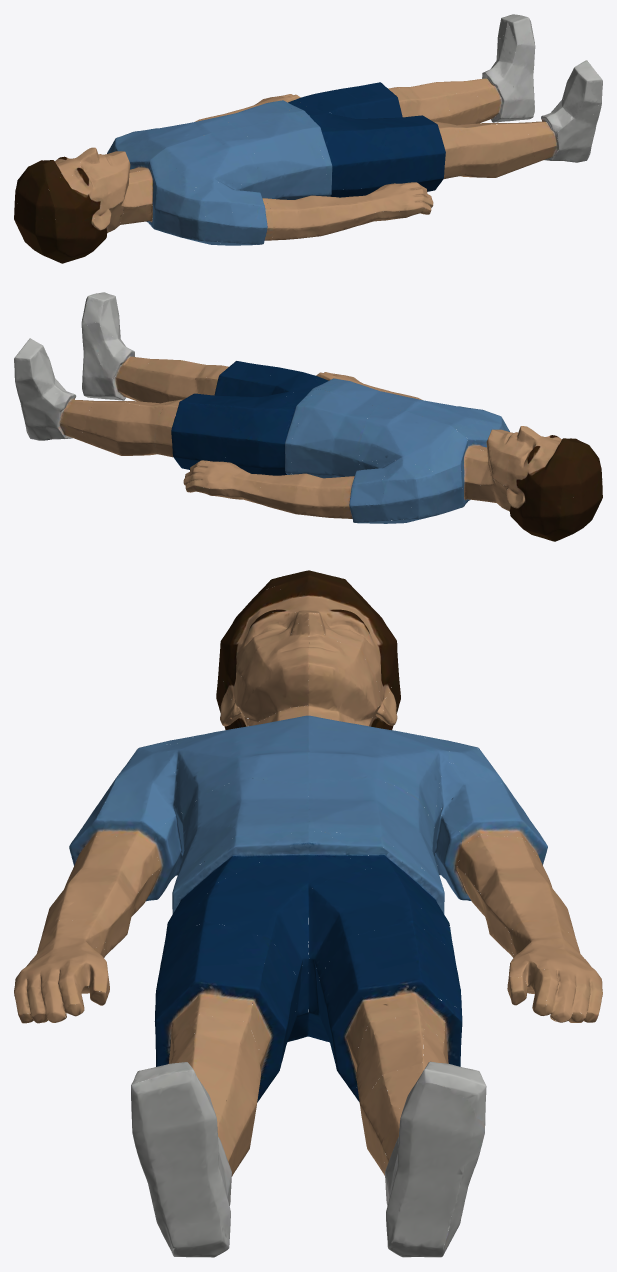
The model's file is patient-optimized.glb.
3 views of the same model, one above another, from view 1: azimuth 30°, elevation 25°; view 2: azimuth 150°, elevation 25°; view 3: azimuth 270°, elevation 25° (orthographic). The views are drawn at different scales.
Visible parts, largest first — view 1: tripo_node_ce960440-35cb-4ac0-a334-53b2e21d0026; view 2: tripo_node_ce960440-35cb-4ac0-a334-53b2e21d0026; view 3: tripo_node_ce960440-35cb-4ac0-a334-53b2e21d0026.
Boxes of the visible parts, box(x1,y1,x2,y2) form: tripo_node_ce960440-35cb-4ac0-a334-53b2e21d0026: box(14, 14, 602, 263); tripo_node_ce960440-35cb-4ac0-a334-53b2e21d0026: box(14, 292, 602, 541); tripo_node_ce960440-35cb-4ac0-a334-53b2e21d0026: box(14, 570, 602, 1257).
Size of the model in its own units: 1 by 0.1805 by 0.4764.
Materials: 1 (1 with a texture image).
